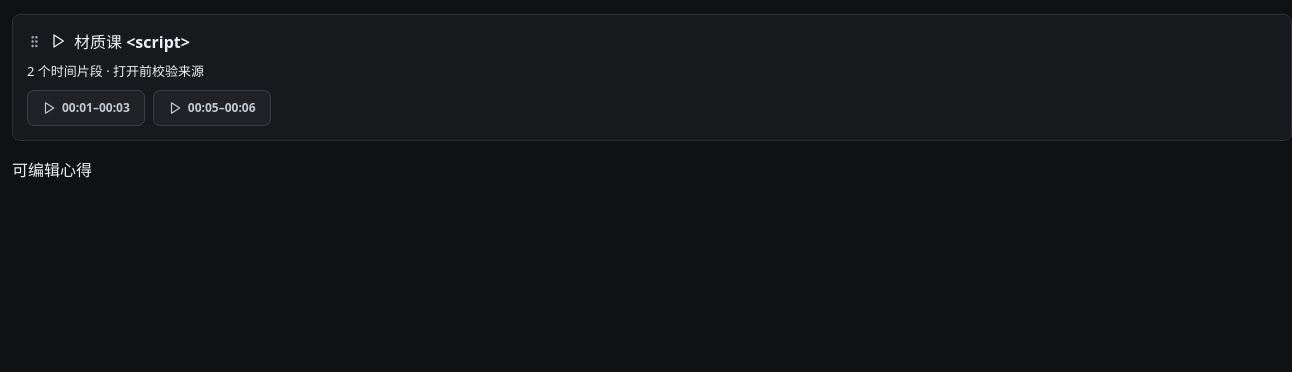
opens the selected non-contiguous range and reports navigation errors
Click the button named "播放片段 2": (212, 108) [153,90,271,126]
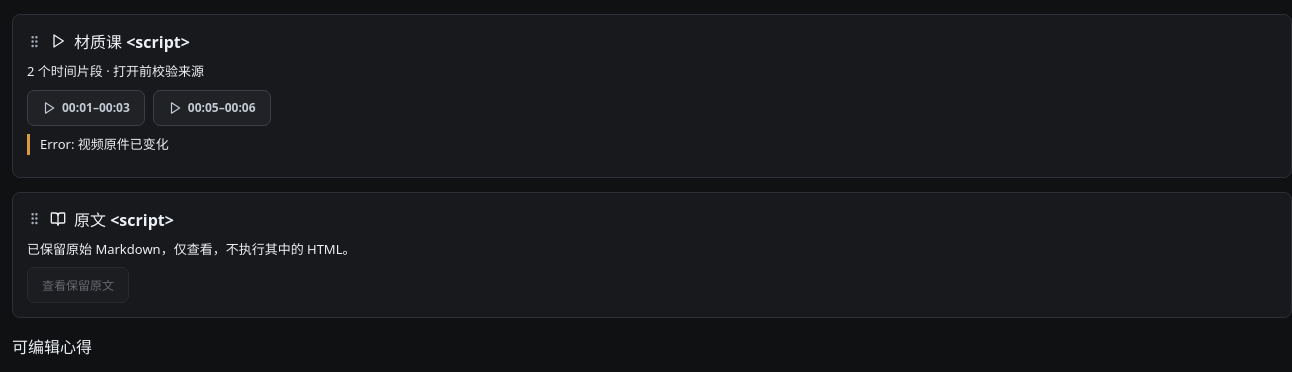
Result: the message shows "视频原件已变化" at [40,135,169,153]
